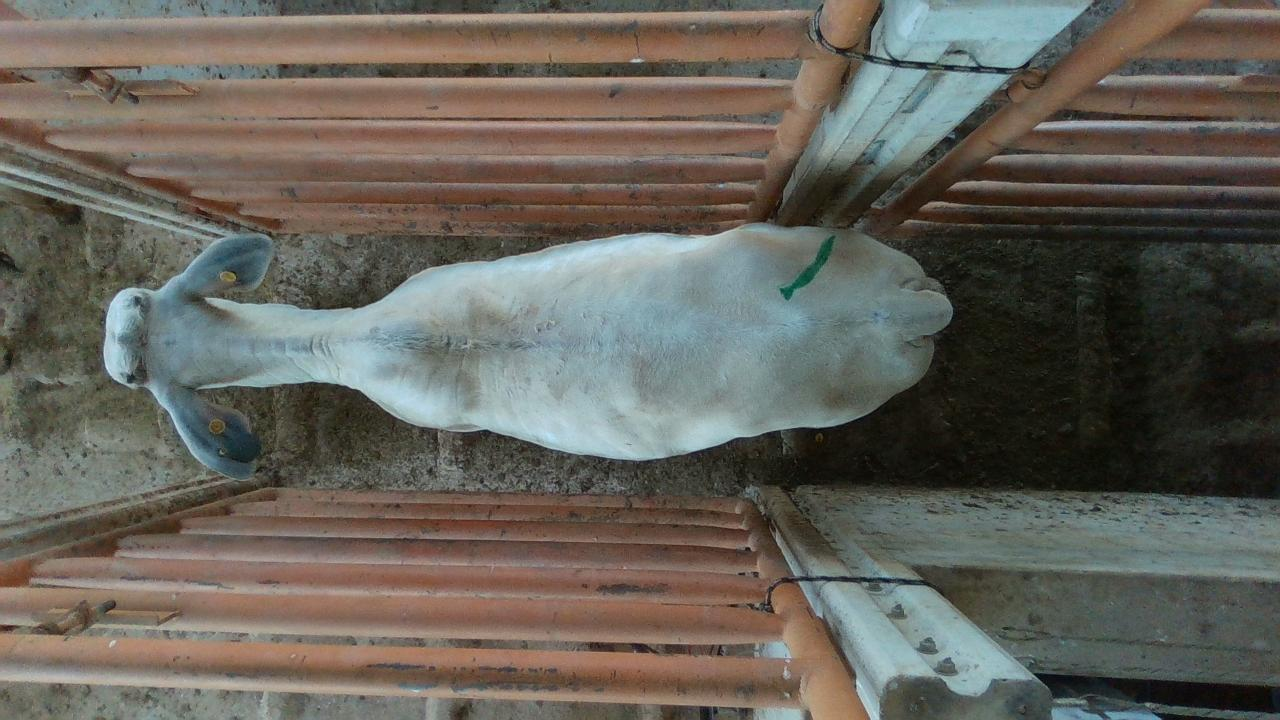cattle: (101, 219, 954, 481)
